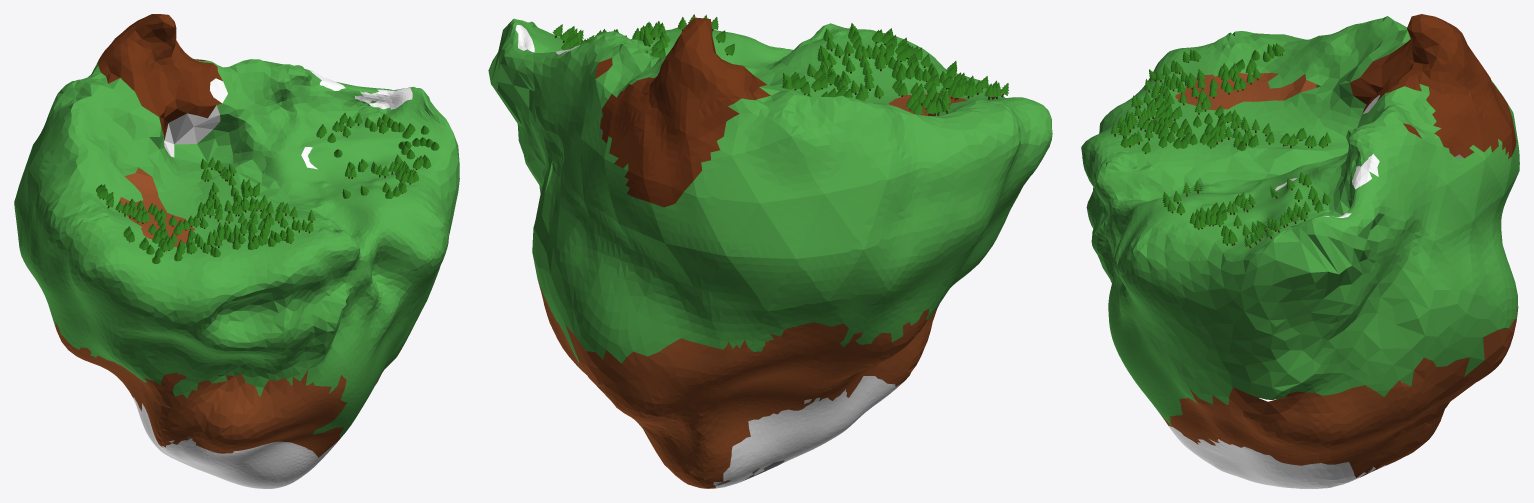
Rendered from Isla.fbx.
3 views of the same model, side by side, from view 1: azimuth 30°, elevation 25°; view 2: azimuth 150°, elevation 25°; view 3: azimuth 270°, elevation 25° (orthographic). The views are drawn at different scales.
Parts seen in each view (by area): view 1: Isla; view 2: Isla; view 3: Isla.
Part boxes in pixels (x1,y1,x2,y2): Isla: (14,14,459,488); Isla: (488,17,1052,488); Isla: (1081,14,1519,488).
Bounding box in the file's own units: 26.13 × 25.07 × 22.26.
Materials: 5 (1 with a texture image).
